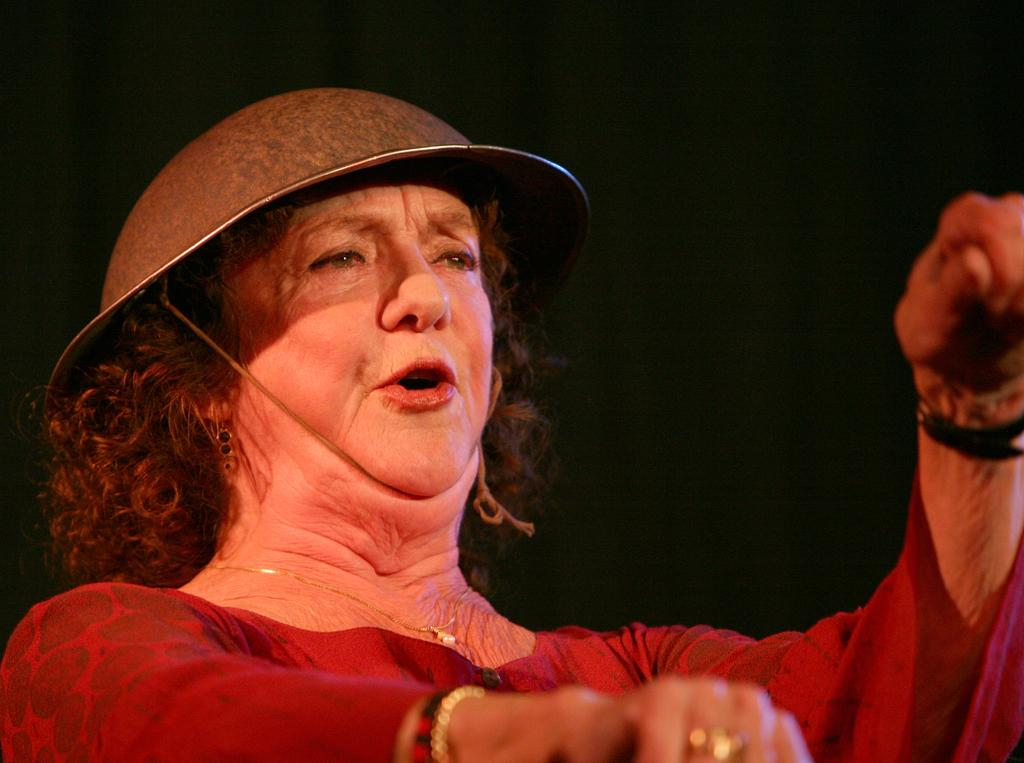Hat: (47, 86, 594, 539)
